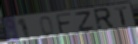0: (39, 16, 55, 36)
1: (17, 17, 32, 40)
F: (55, 12, 73, 35)
R: (92, 7, 116, 31)
T: (114, 6, 129, 27)
Z: (75, 10, 96, 32)
